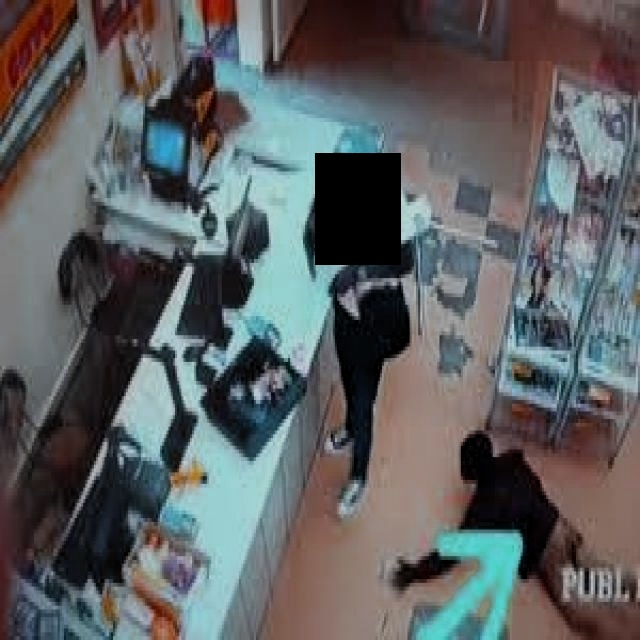gun: (298, 217, 326, 285)
